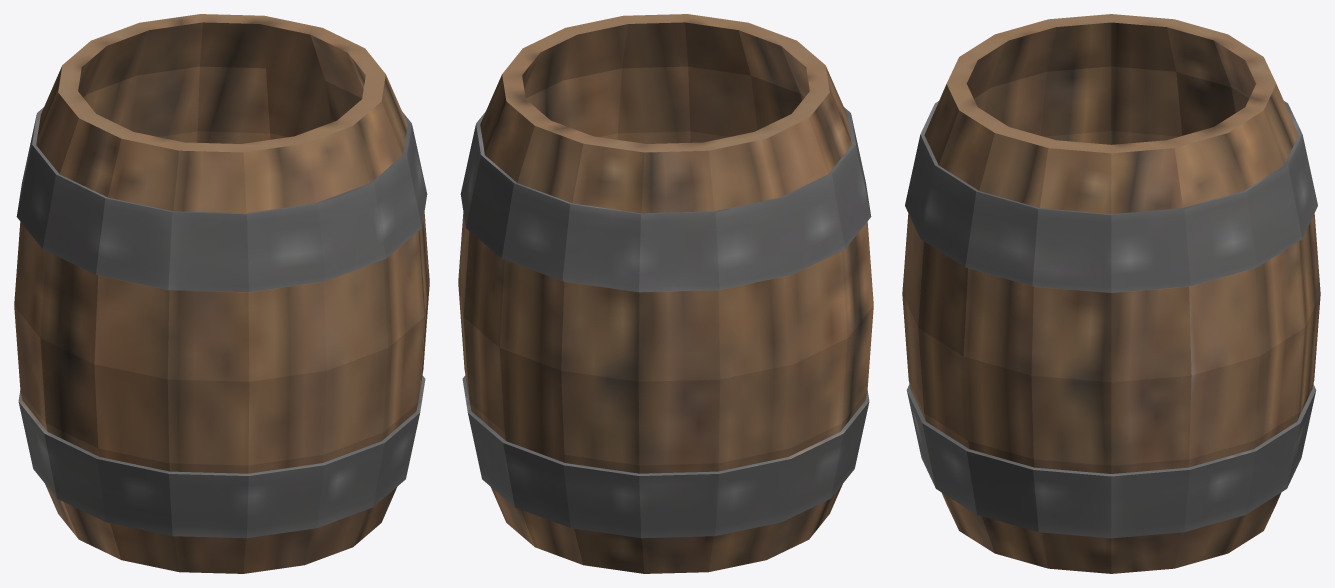
Rendered from Barrel.fbx.
3 views of the same model, side by side, from view 1: azimuth 30°, elevation 25°; view 2: azimuth 150°, elevation 25°; view 3: azimuth 270°, elevation 25° (orthographic).
Visible parts, largest first — view 1: barrel; view 2: barrel; view 3: barrel.
Boxes of the visible parts, left/top/right/bottom form: barrel: left=14, top=14, right=429, bottom=573; barrel: left=458, top=14, right=873, bottom=573; barrel: left=902, top=14, right=1320, bottom=573.
Bounding box in the file's own units: 102 × 113 × 102.
1 material, 1 textured.
